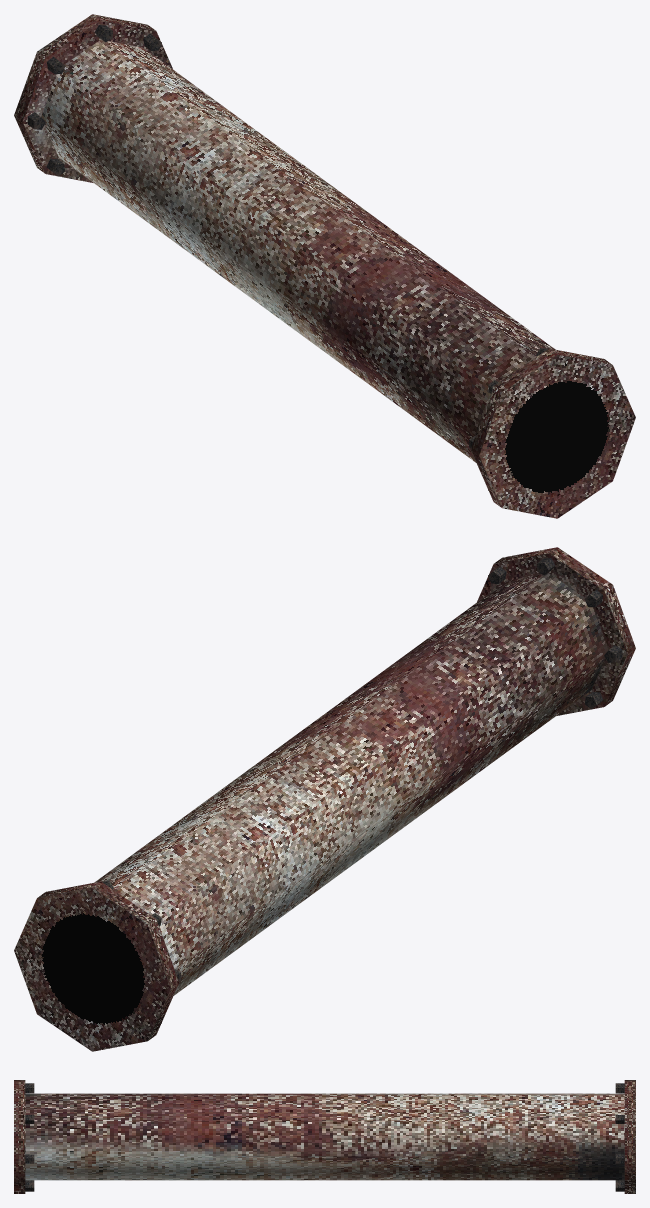
File: pipe_long.glb
The picture shows the model from 3 angles, top to bottom: view 1: azimuth 30°, elevation 25°; view 2: azimuth 150°, elevation 25°; view 3: azimuth 270°, elevation 25°; orthographic projection. The views are drawn at different scales.
Parts seen in each view (by area): view 1: Pipe_004; view 2: Pipe_004; view 3: Pipe_004.
Boxes of the visible parts, box(x1,y1,x2,y2) form: Pipe_004: box(14, 14, 635, 518); Pipe_004: box(14, 547, 635, 1051); Pipe_004: box(14, 1080, 635, 1193).
Size of the model in its own units: 0.3978 by 0.3978 by 2.04.
Materials: 1 (1 with a texture image).
